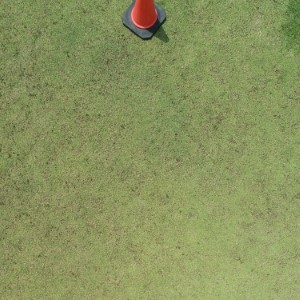traffic cone: (121, 1, 166, 39)
